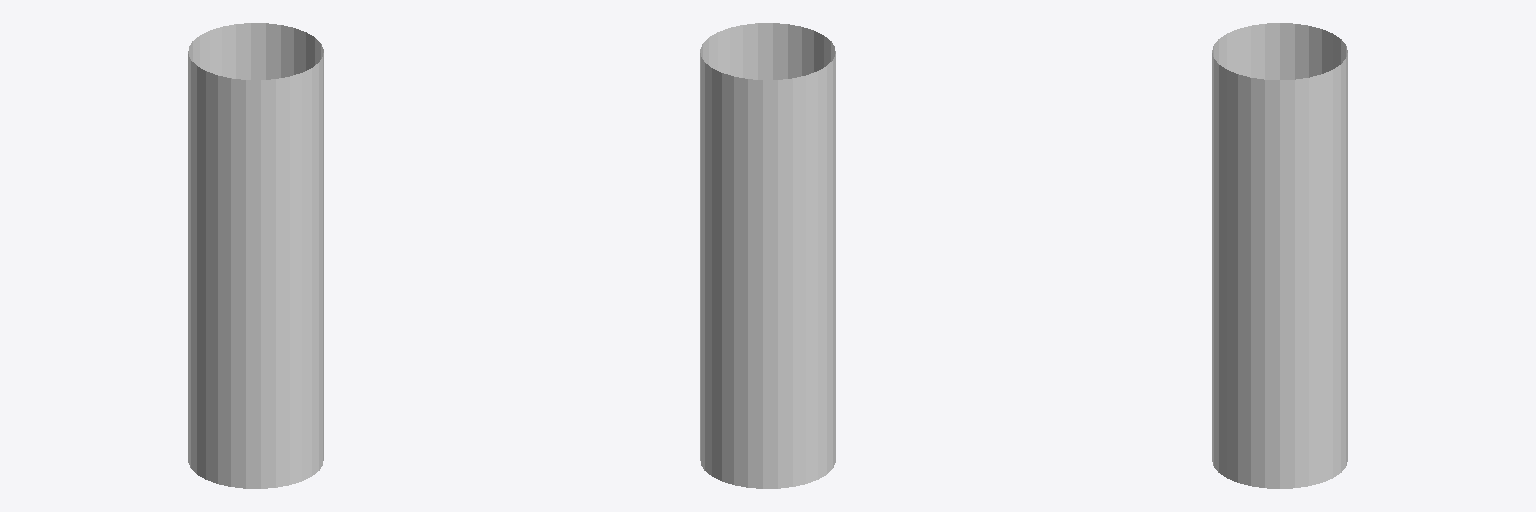
Rendered from wieza_element.obj.
The picture shows the model from 3 angles: view 1: azimuth 30°, elevation 25°; view 2: azimuth 150°, elevation 25°; view 3: azimuth 270°, elevation 25°; orthographic projection.
Visible parts, largest first — view 1: wieza; view 2: wieza; view 3: wieza.
Boxes of the visible parts, x1=… form: wieza: x1=188, y1=23, x2=323, y2=488; wieza: x1=700, y1=23, x2=835, y2=488; wieza: x1=1212, y1=23, x2=1347, y2=488.
Size of the model in its own units: 8.2 by 27.2 by 8.2.